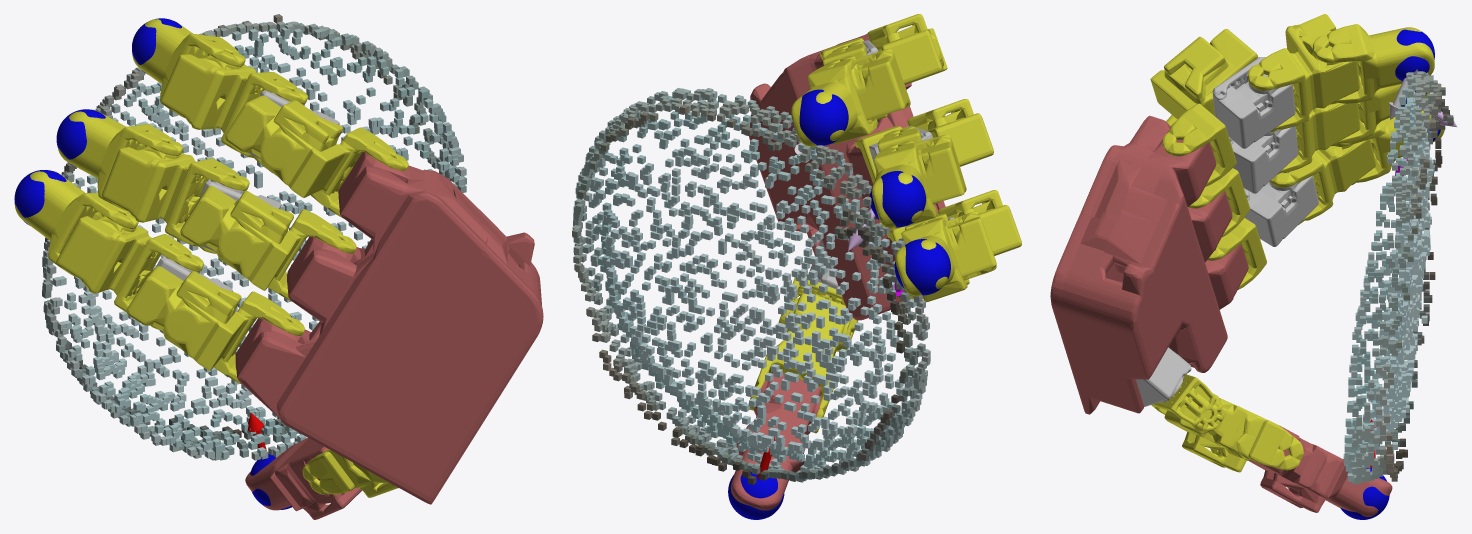
Rendered from hand_opt_res_obj.glb.
3 renders of one model, left to right at view 1: azimuth 30°, elevation 25°; view 2: azimuth 150°, elevation 25°; view 3: azimuth 270°, elevation 25°, orthographic. The views are drawn at different scales.
Visible parts, largest first — view 1: world; view 2: world; view 3: world.
Part boxes in pixels (left/top/right/bottom): world: left=14, top=14, right=543, bottom=519; world: left=572, top=14, right=1021, bottom=519; world: left=1050, top=14, right=1456, bottom=519.
Bounding box in the file's own units: 0.2203 × 0.2469 × 0.2012.
